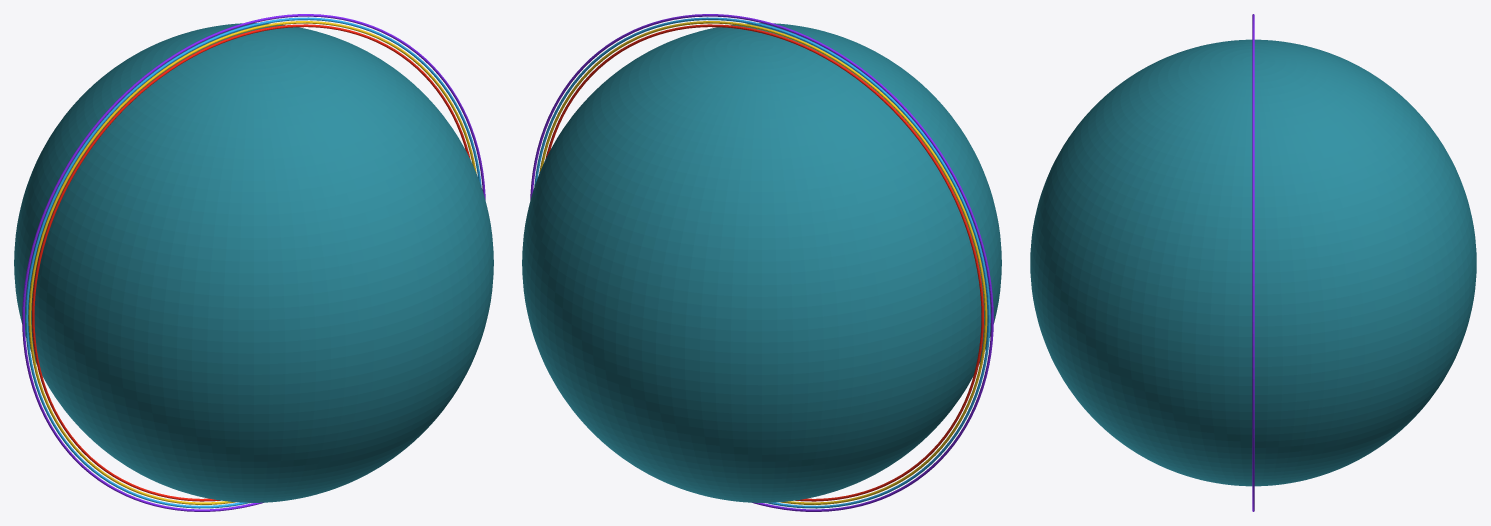
File: rainbow_raindrop_v03.obj
3 views of the same model, side by side, from view 1: azimuth 30°, elevation 25°; view 2: azimuth 150°, elevation 25°; view 3: azimuth 270°, elevation 25° (orthographic). The views are drawn at different scales.
Parts seen in each view (by area): view 1: Raindrop_Optical_Glass, Spectrum_Ring_4, Spectrum_Ring_3, Spectrum_Ring_2, Spectrum_Ring_1; view 2: Raindrop_Optical_Glass, Spectrum_Ring_4, Spectrum_Ring_3, Spectrum_Ring_2, Spectrum_Ring_1; view 3: Raindrop_Optical_Glass, Spectrum_Ring_4.
Part boxes in pixels (x1=…): Raindrop_Optical_Glass: x1=14, y1=23, x2=493, y2=502; Spectrum_Ring_4: x1=22, y1=14, x2=485, y2=511; Spectrum_Ring_3: x1=25, y1=17, x2=481, y2=508; Spectrum_Ring_2: x1=28, y1=21, x2=476, y2=504; Spectrum_Ring_1: x1=32, y1=24, x2=470, y2=501; Raindrop_Optical_Glass: x1=522, y1=23, x2=1001, y2=502; Spectrum_Ring_4: x1=530, y1=14, x2=993, y2=511; Spectrum_Ring_3: x1=534, y1=17, x2=990, y2=508; Spectrum_Ring_2: x1=539, y1=21, x2=987, y2=504; Spectrum_Ring_1: x1=545, y1=24, x2=983, y2=501; Raindrop_Optical_Glass: x1=1030, y1=39, x2=1476, y2=486; Spectrum_Ring_4: x1=1252, y1=14, x2=1254, y2=511.
Bounding box in the file's own units: 3.57 × 3.57 × 3.2.
